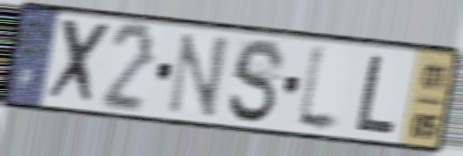2: (100, 19, 163, 116)
L: (293, 39, 344, 140), (352, 52, 398, 138)
N: (163, 31, 232, 121)
S: (225, 36, 288, 127)
X: (42, 15, 115, 111)
